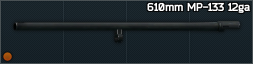MP-133 12ga 610mm barrel: (0, 0, 253, 64)
